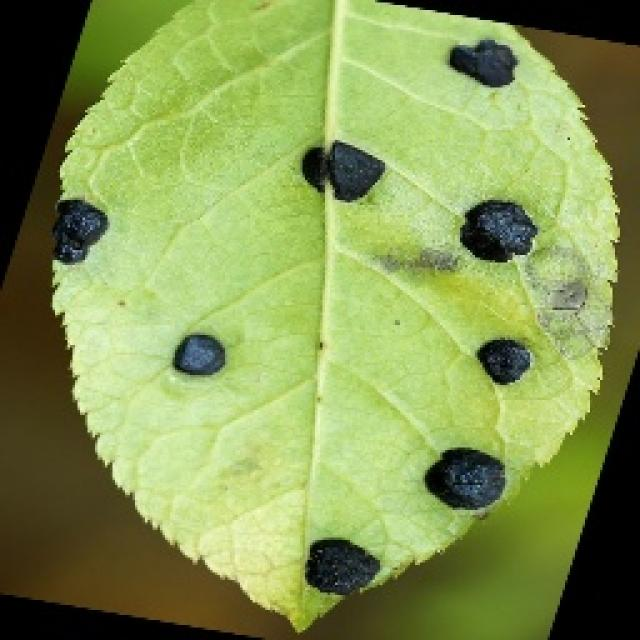Tar_Spot: (45, 0, 622, 632)
